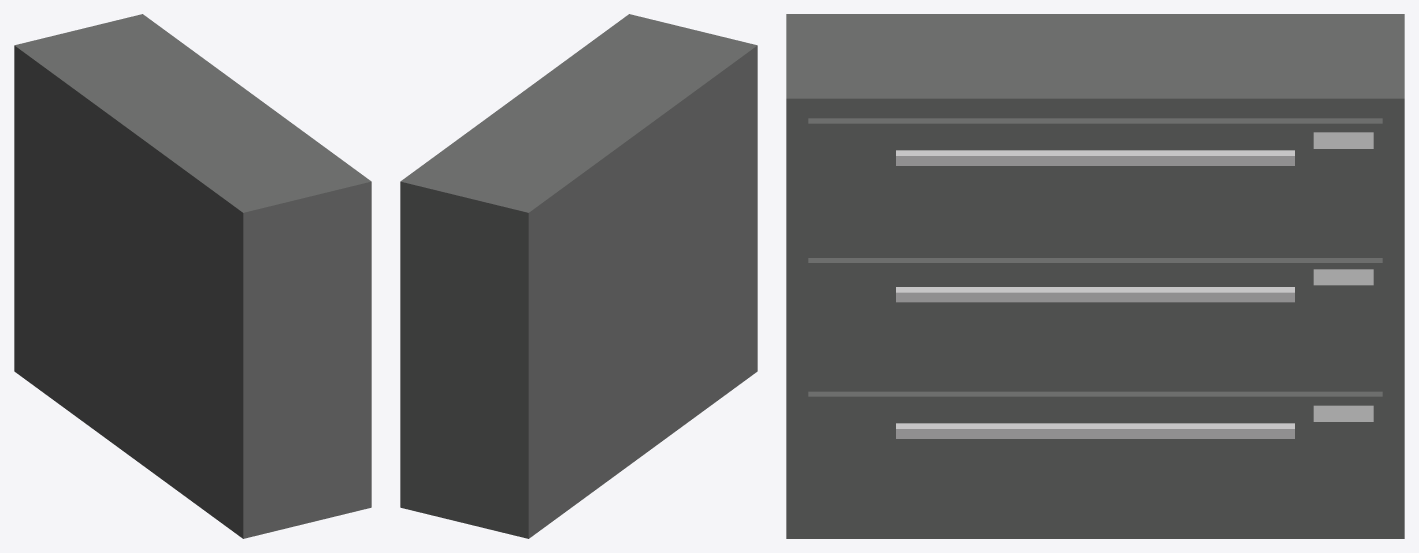
The model's file is SM_Cupboard_08.glb.
3 views of the same model, side by side, from view 1: azimuth 30°, elevation 25°; view 2: azimuth 150°, elevation 25°; view 3: azimuth 270°, elevation 25° (orthographic). The views are drawn at different scales.
Parts seen in each view (by area): view 1: SM_Cupboard_08; view 2: SM_Cupboard_08; view 3: SM_Cupboard_08.
Boxes of the visible parts, <box> form: SM_Cupboard_08: <box>14,14,371,538</box>; SM_Cupboard_08: <box>400,14,757,538</box>; SM_Cupboard_08: <box>786,14,1404,538</box>.
Size of the model in its own units: 0.4207 by 0.9048 by 1.15.
1 material, 1 textured.
